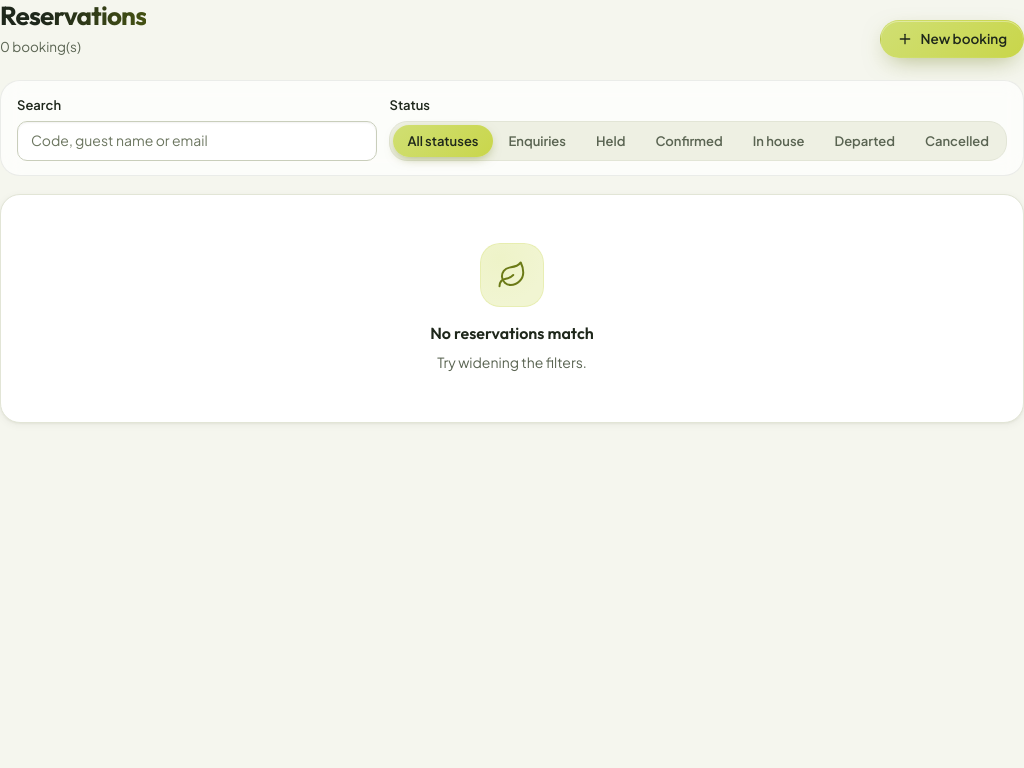
Scenario: entering a booking by hand › puts the engine’s refusal in front of the person
This screenshot has width=1024, height=768.
Click the button "New booking": (952, 39) [880, 20, 1023, 58]
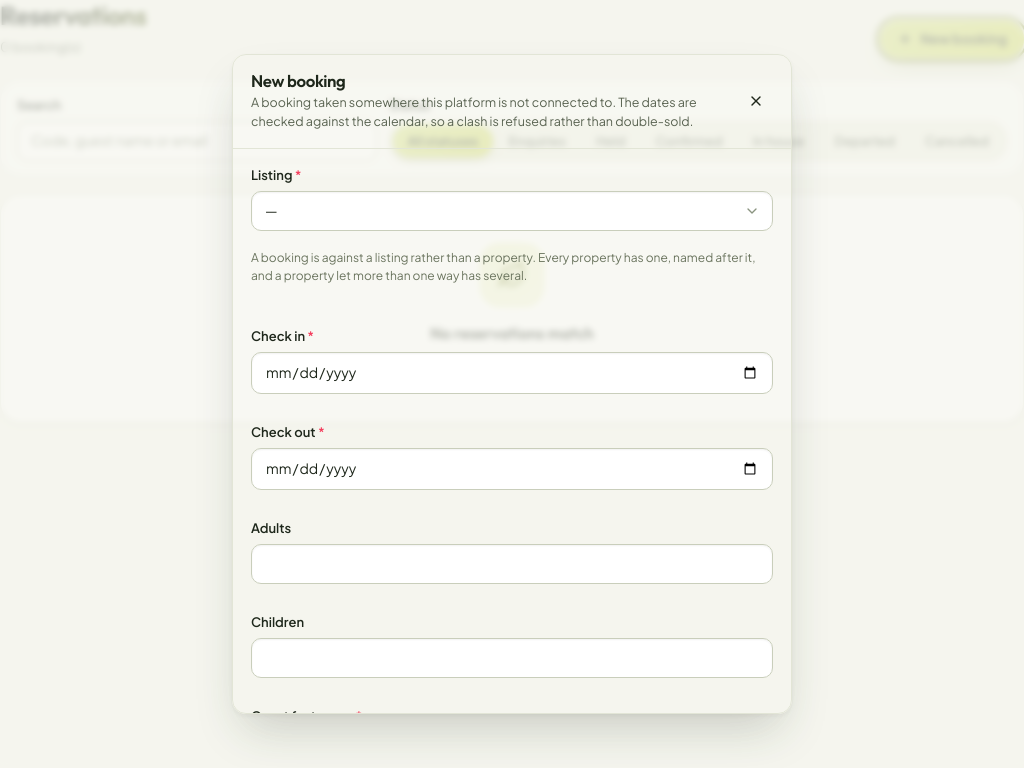
Select "Alfama Terrace" in the dropdown labelled "Listing *": (512, 211) [251, 191, 773, 231]
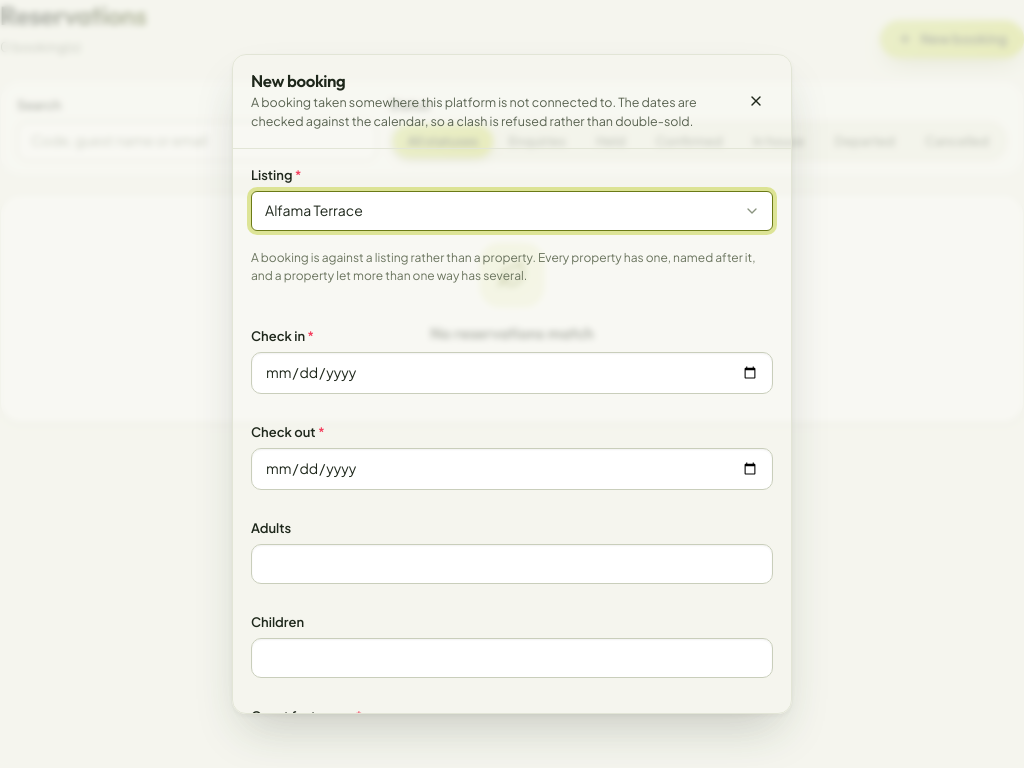
In the date field labelled "Check in *": (512, 373) [251, 352, 773, 394], type "2026-08-20"
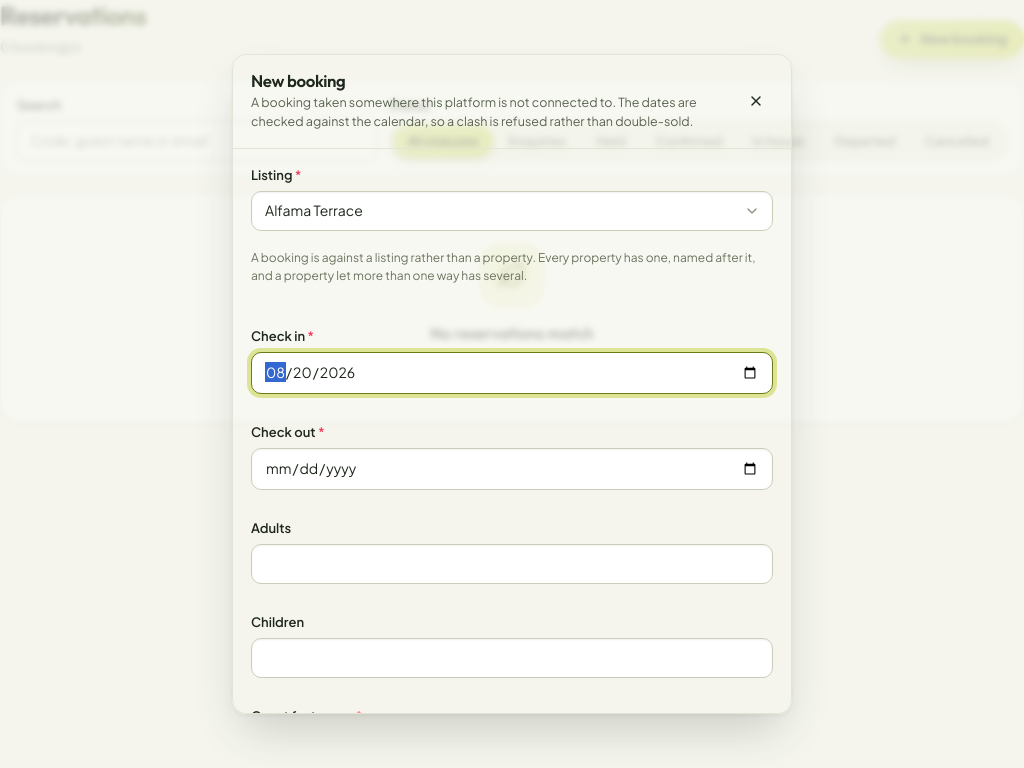
In the date field labelled "Check out *": (512, 469) [251, 448, 773, 490], type "2026-08-25"
(page scrolled)
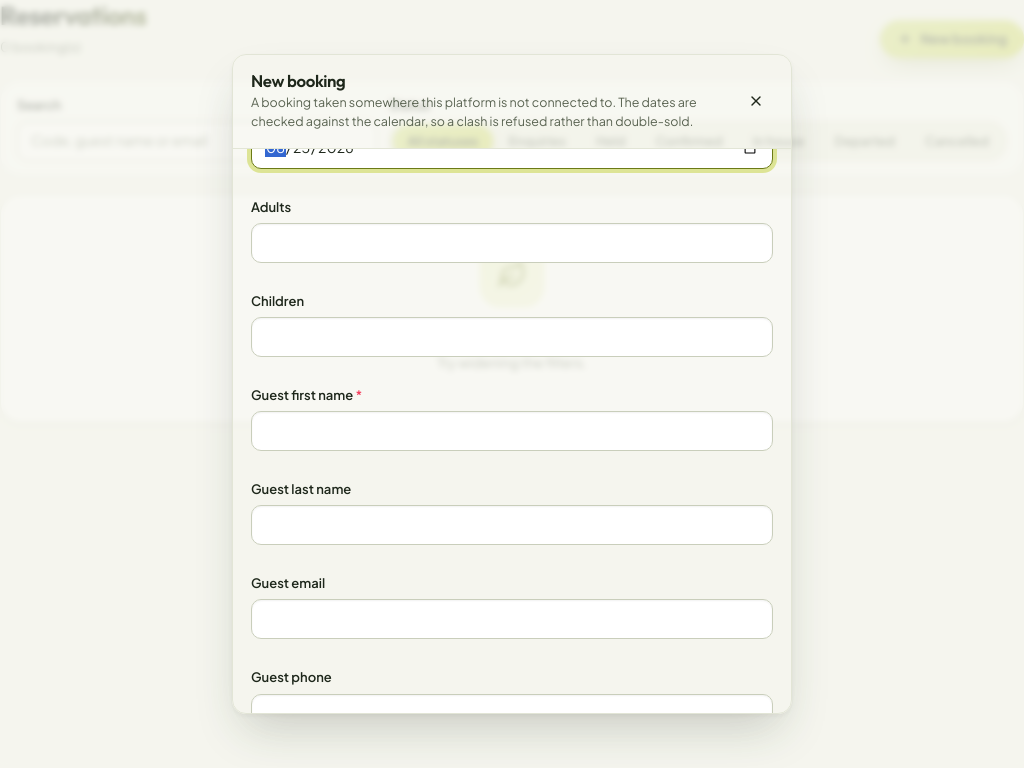
In the field labelled "Guest first name *": (512, 431) [251, 411, 773, 451], type "Ana"
(page scrolled)
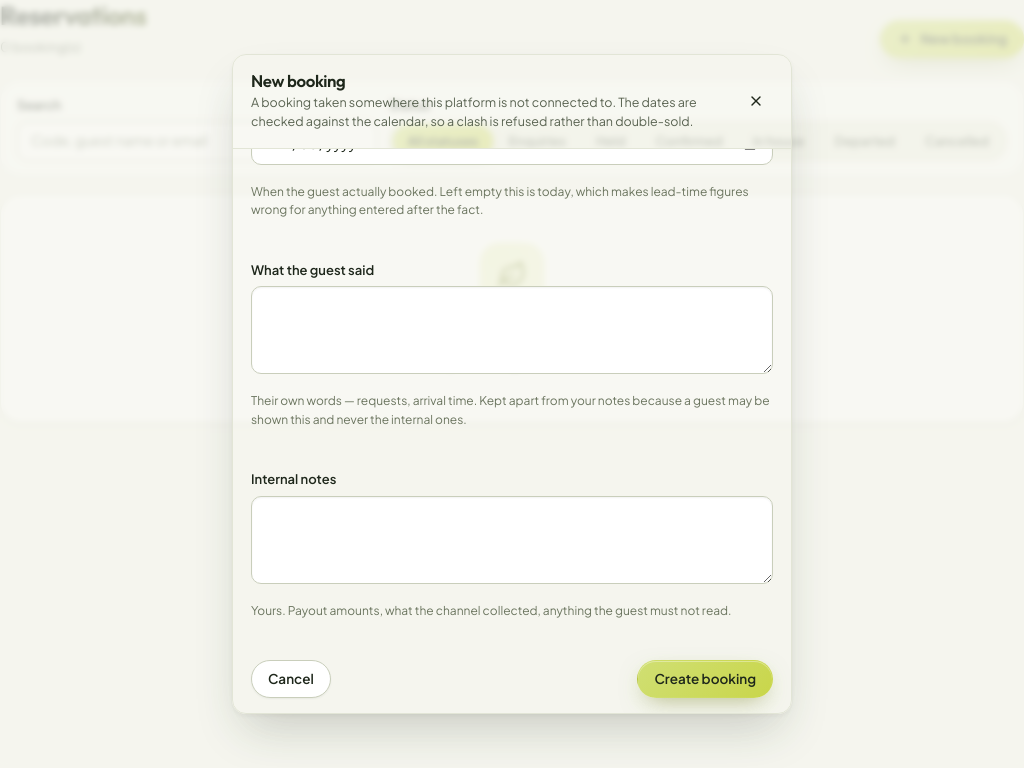
Click the button "Create booking": (705, 679) [637, 660, 773, 698]
(page scrolled)
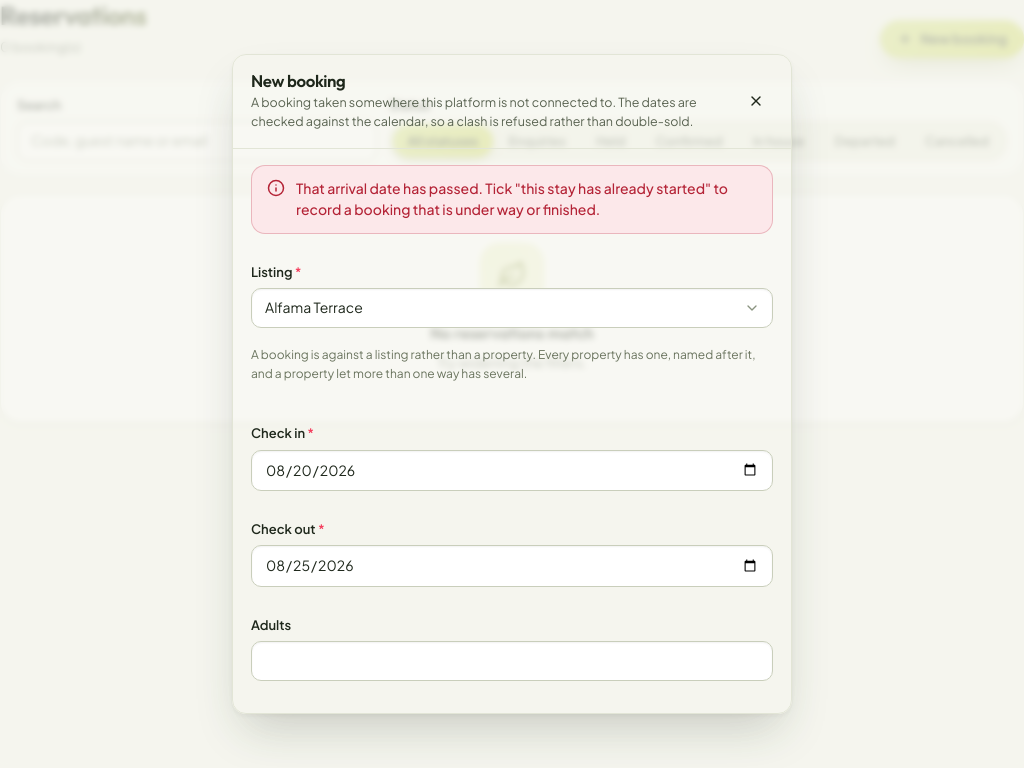
Check: the message shows "already started", box [296, 179, 728, 218]
